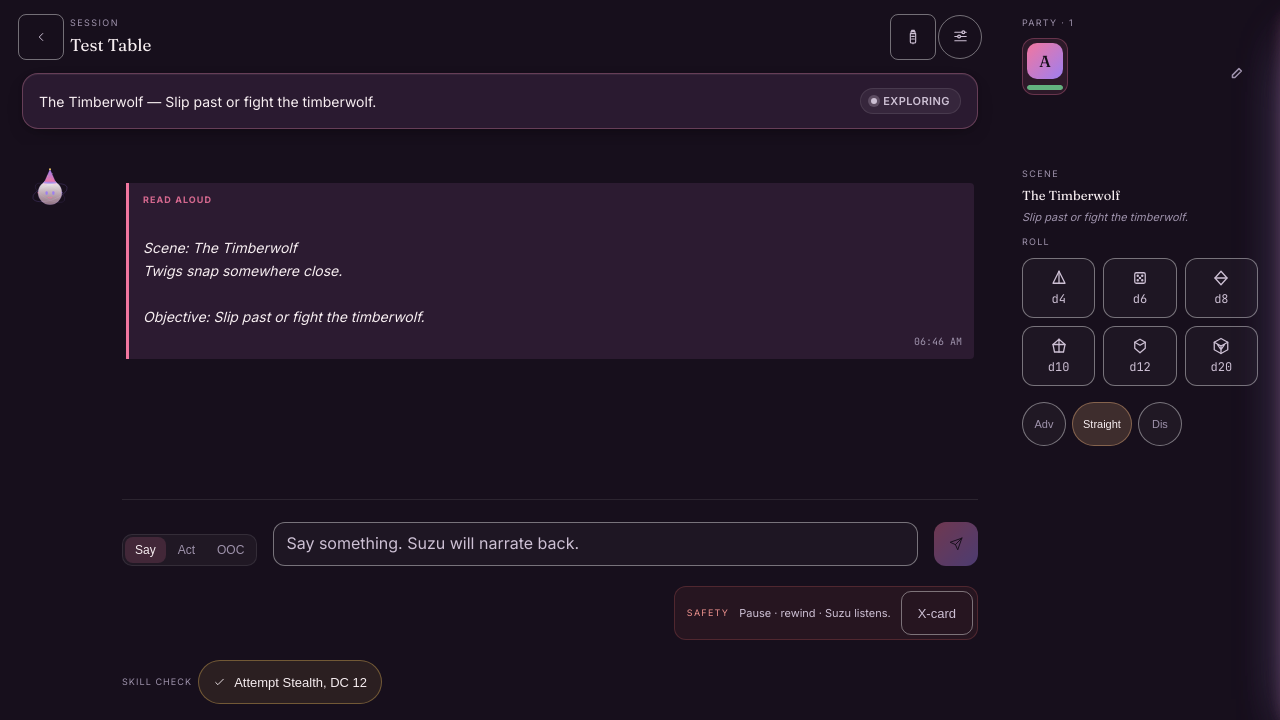
Test: F4/CHECK-DOUBLE-RENDER — flag-ON durable poll dedup › event_seq null/absent degrades gracefully: the optimistic row still renders once, no crash
The width and height of the screenshot is (1280, 720).
Expected: the text "Test Table" is shown, left=70, top=32, right=151, bottom=57
Click the button "Attempt Stealth, DC 12": (290, 682) left=198, top=660, right=382, bottom=704
Wait 4000 ms
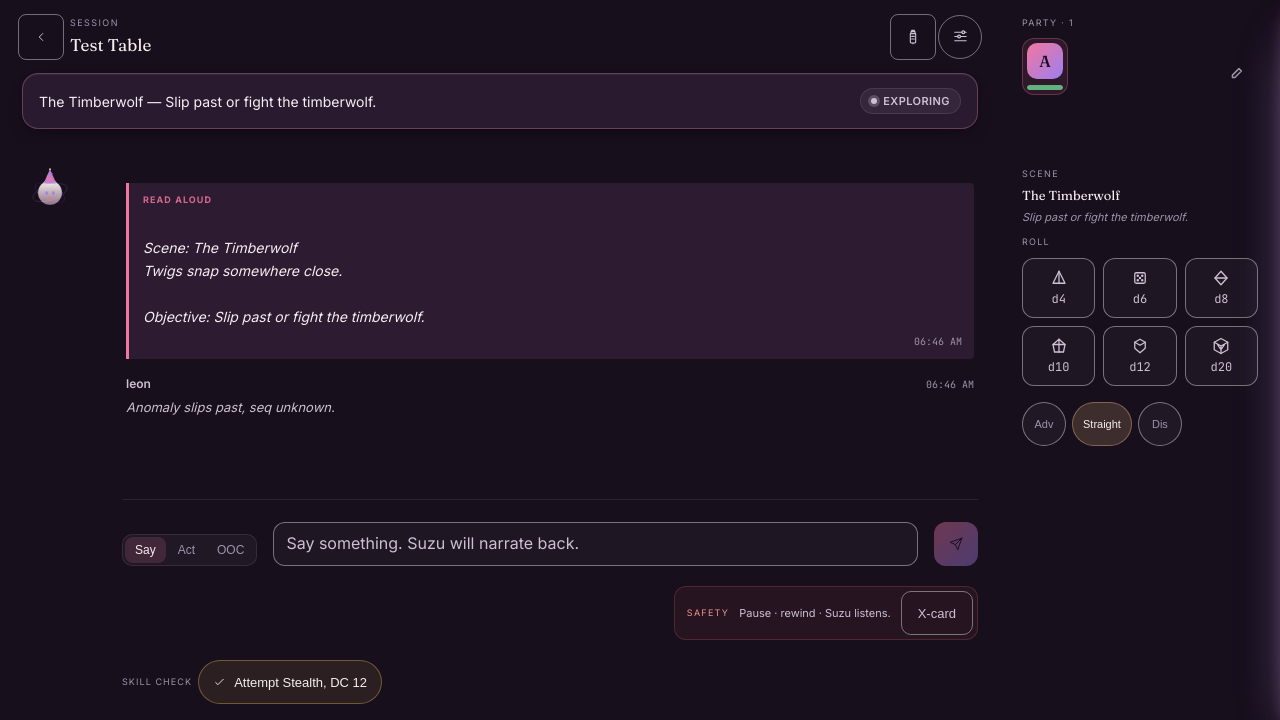
Expected: the text "Anomaly slips past, seq unknown." is shown once, left=126, top=399, right=335, bottom=415
